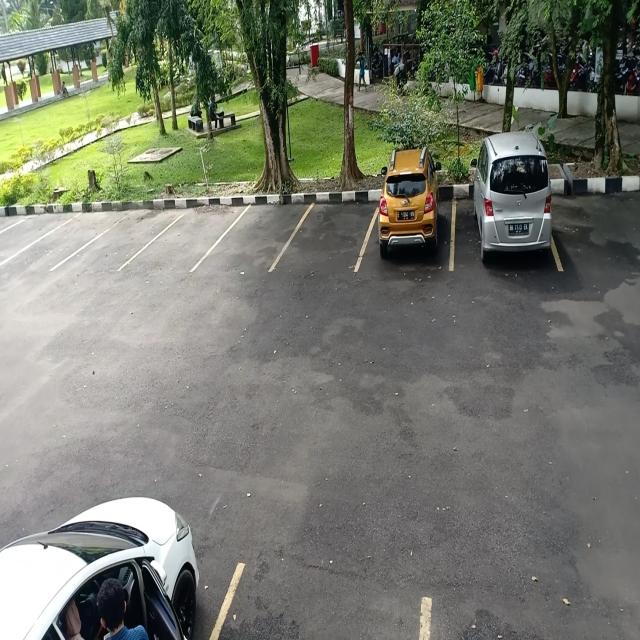empty: (284, 190, 372, 274), (215, 198, 288, 276), (150, 202, 219, 275), (88, 208, 152, 272), (35, 211, 91, 274)
occupied: (450, 146, 560, 272), (369, 161, 452, 268)
